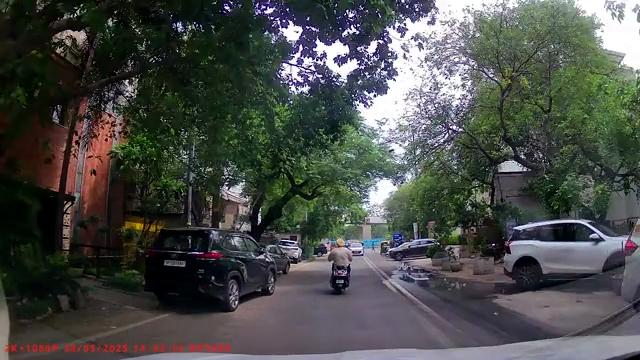motorcycle_with_helmet: (325, 237, 353, 295)
